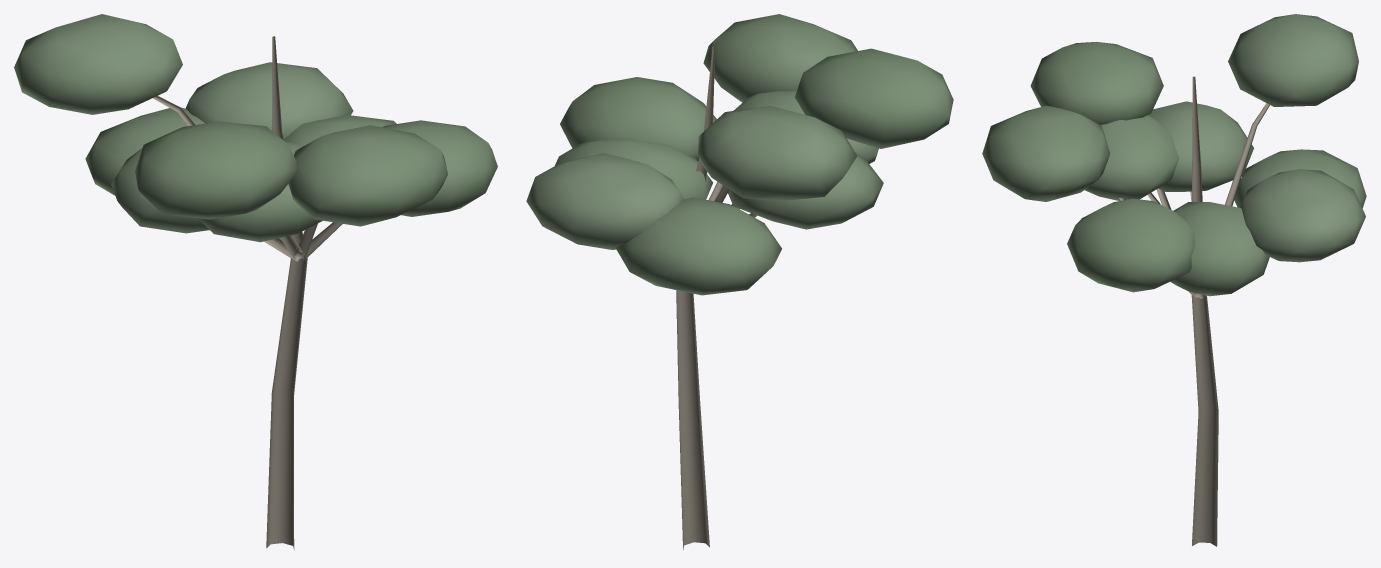
The model's file is aleppo_pine_2_near.glb.
3 views of the same model, side by side, from view 1: azimuth 30°, elevation 25°; view 2: azimuth 150°, elevation 25°; view 3: azimuth 270°, elevation 25° (orthographic). The views are drawn at different scales.
Parts seen in each view (by area): view 1: geometry_0; view 2: geometry_0; view 3: geometry_0.
Boxes of the visible parts, bbox=[...] form: geometry_0: bbox=[14, 14, 497, 550]; geometry_0: bbox=[526, 14, 953, 550]; geometry_0: bbox=[982, 14, 1366, 546].
Size of the model in its own units: 7.56 by 9.89 by 7.39.
